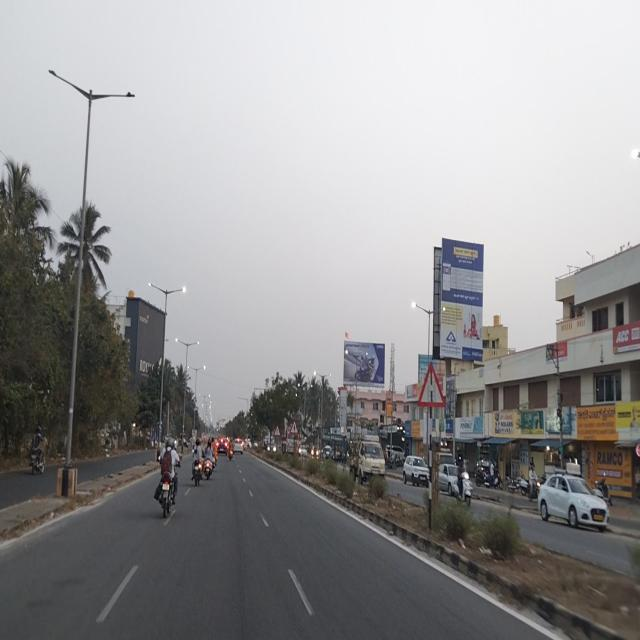bien_cam: (416, 357, 446, 411), (290, 420, 299, 434), (274, 424, 280, 436)
